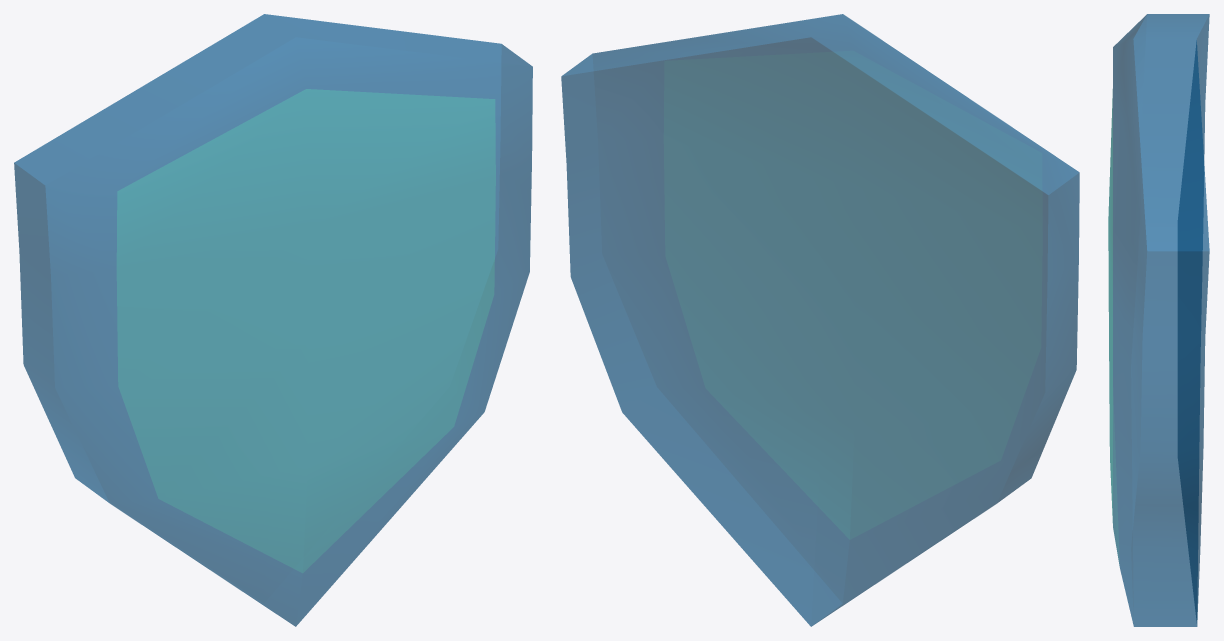
The model's file is Shield Pickup.fbx.
3 views of the same model, side by side, from view 1: azimuth 30°, elevation 25°; view 2: azimuth 150°, elevation 25°; view 3: azimuth 270°, elevation 25° (orthographic).
Parts seen in each view (by area): view 1: pCube1; view 2: pCube1; view 3: pCube1.
Part boxes in pixels (x1,y1,x2,y2): pCube1: [14, 14, 532, 626]; pCube1: [561, 14, 1079, 626]; pCube1: [1108, 14, 1209, 626].
Size of the model in its own units: 10.2 by 11.79 by 1.84.
